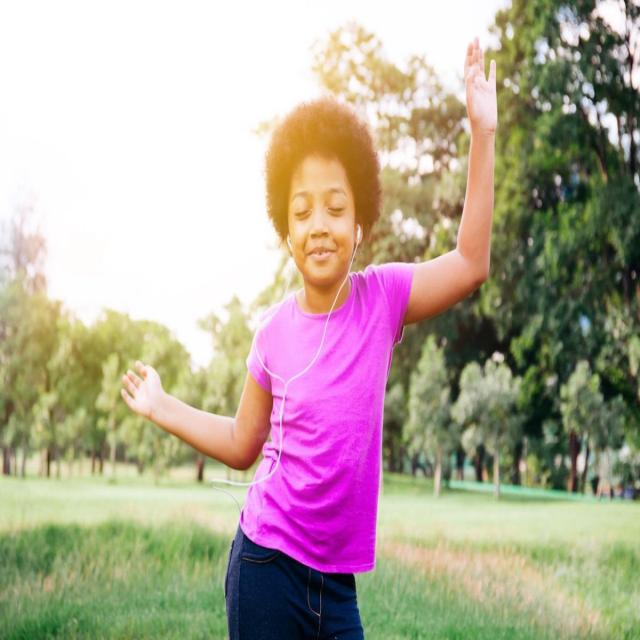child: (118, 35, 497, 640)
